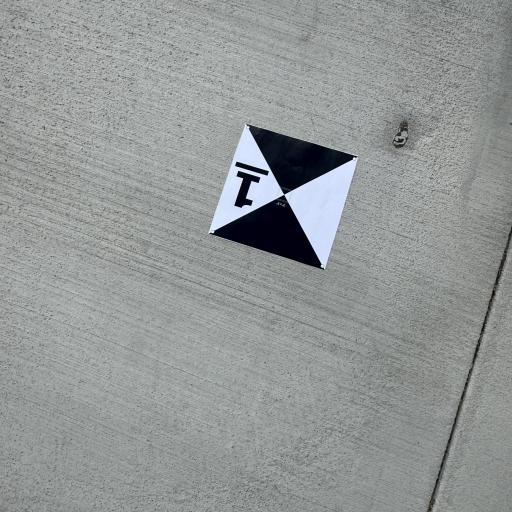target1: (200, 116, 366, 280)
